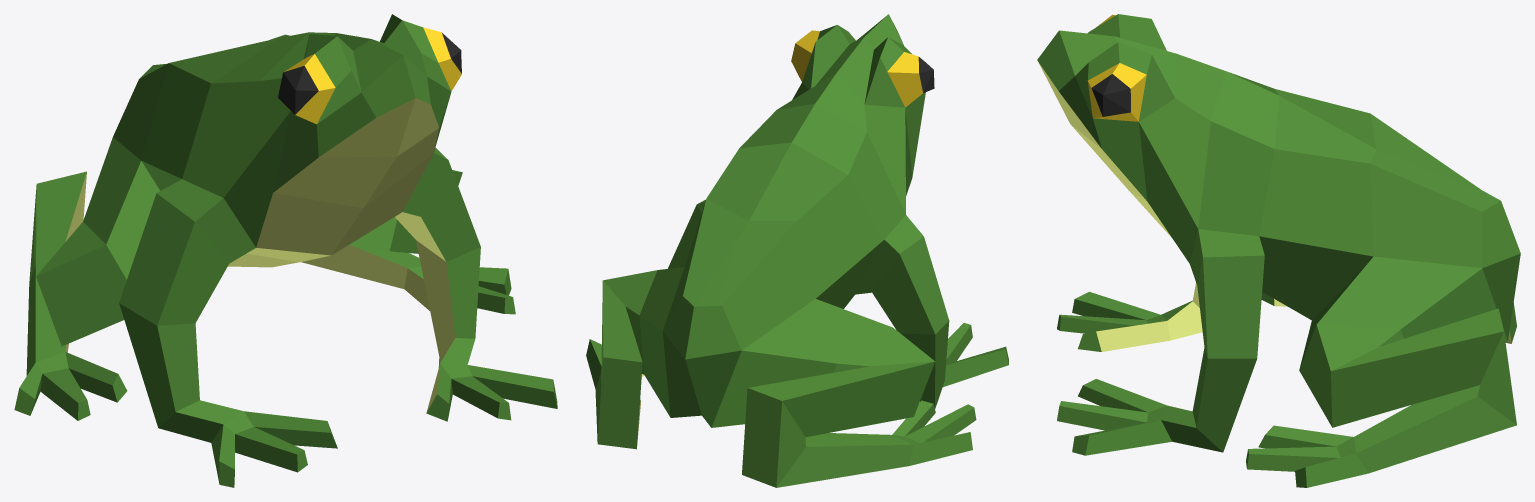
Rendered from animals_frog.fbx.
3 renders of one model, left to right at view 1: azimuth 30°, elevation 25°; view 2: azimuth 150°, elevation 25°; view 3: azimuth 270°, elevation 25°, orthographic. The views are drawn at different scales.
Parts seen in each view (by area): view 1: animals_frog; view 2: animals_frog; view 3: animals_frog.
Part boxes in pixels (left/top/right/bottom): animals_frog: left=14, top=14, right=557, bottom=487; animals_frog: left=586, top=14, right=1008, bottom=487; animals_frog: left=1037, top=14, right=1520, bottom=487.
Bounding box in the file's own units: 200 × 156 × 191.
